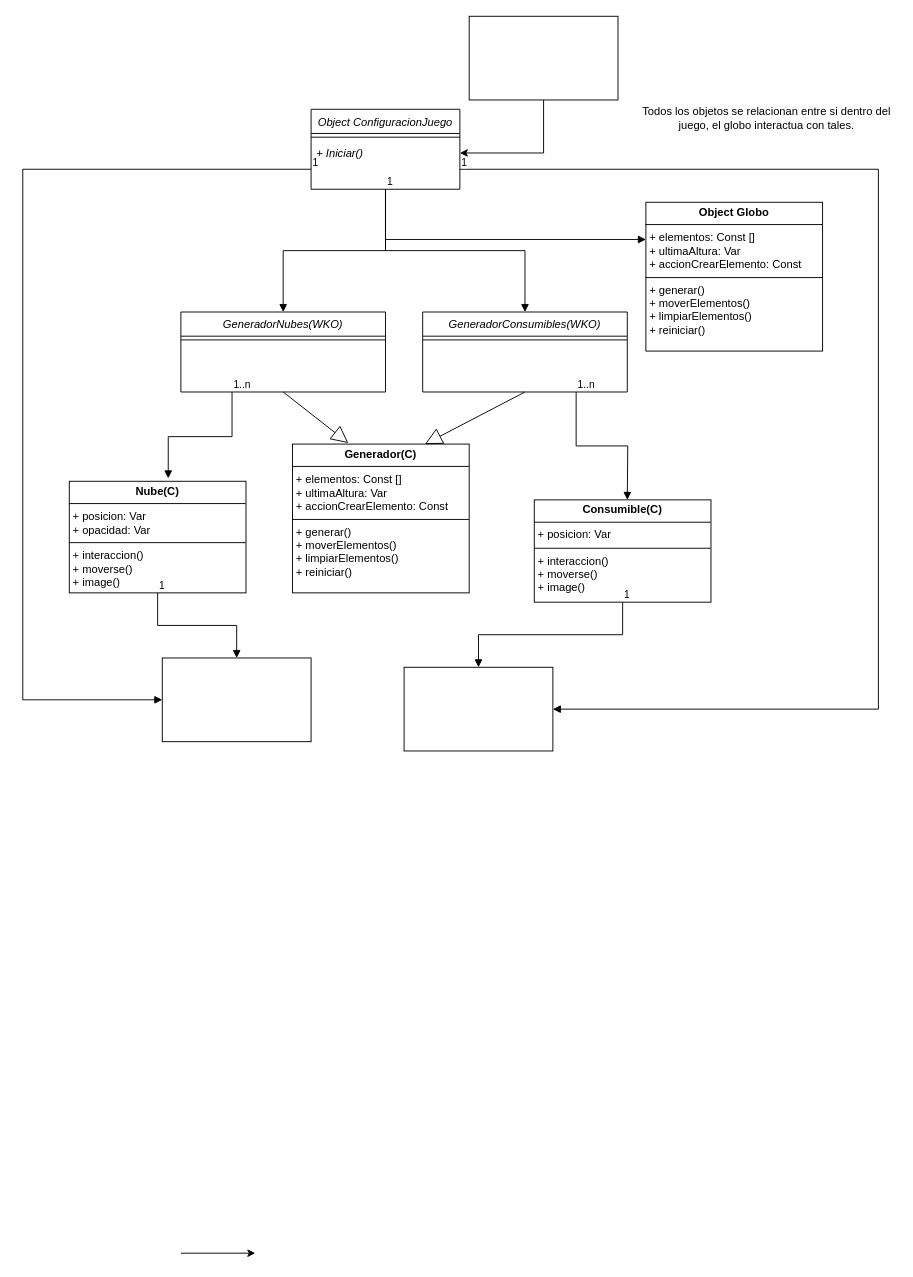
This 913x1277 diagram has some shape labels left out. Each missing label, with the box of its shape:
Object EstadoConsumibles + acelerador: Var + acelerar() + reiniciar(): (403, 666, 553, 751)
Object EstadoNubes + acelerador: Var + acelerar() + reiniciar(): (161, 657, 311, 742)
Program Juego + game + method(): Type: (468, 15, 618, 100)
